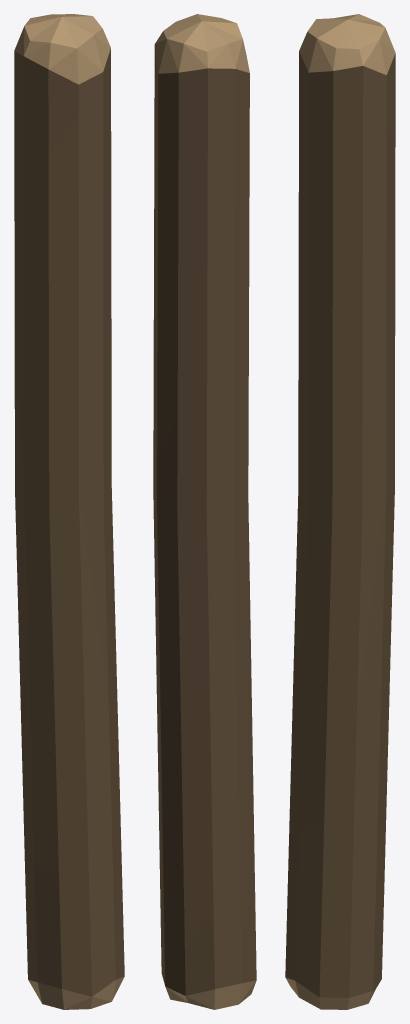
File: Espiga_05.glb
3 views of the same model, side by side, from view 1: azimuth 90°, elevation 25°; view 2: azimuth 150°, elevation 25°; view 3: azimuth 270°, elevation 25° (orthographic).
Parts seen in each view (by area): view 1: SM_Prop_Fence_Wood_Pole_02_1; view 2: SM_Prop_Fence_Wood_Pole_02_1; view 3: SM_Prop_Fence_Wood_Pole_02_1.
Part boxes in pixels (x1,y1,x2,y2): SM_Prop_Fence_Wood_Pole_02_1: (14,14,124,1009); SM_Prop_Fence_Wood_Pole_02_1: (153,14,256,1009); SM_Prop_Fence_Wood_Pole_02_1: (285,14,395,1009).
Size of the model in its own units: 0.3486 by 3.99 by 0.4071.
Materials: 1 (1 with a texture image).
